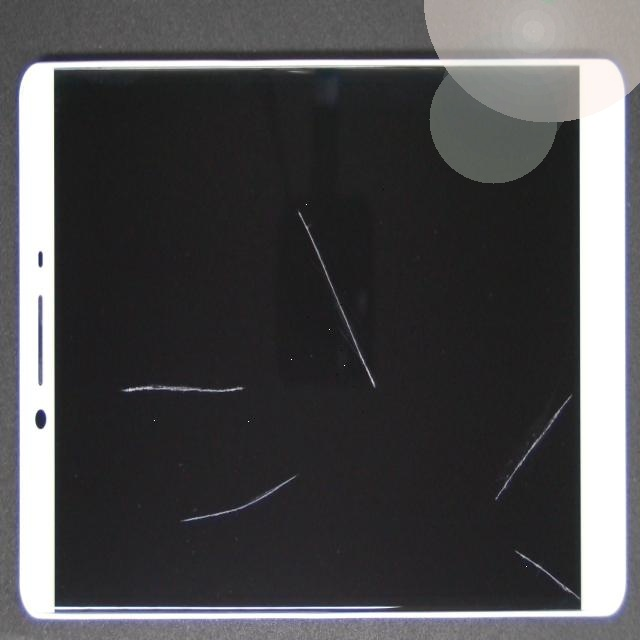scratch: (216, 261, 640, 640), (101, 2, 481, 420), (0, 203, 217, 635)
